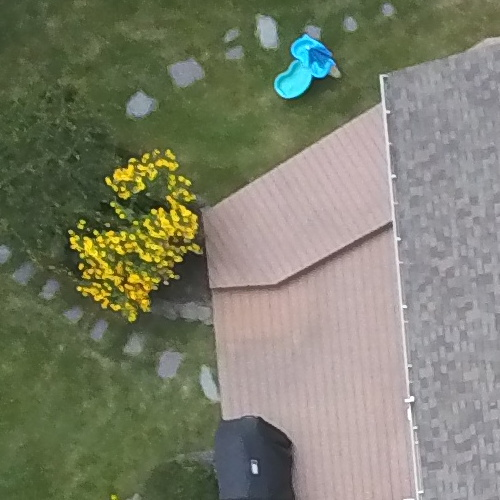toy: (266, 26, 341, 120)
